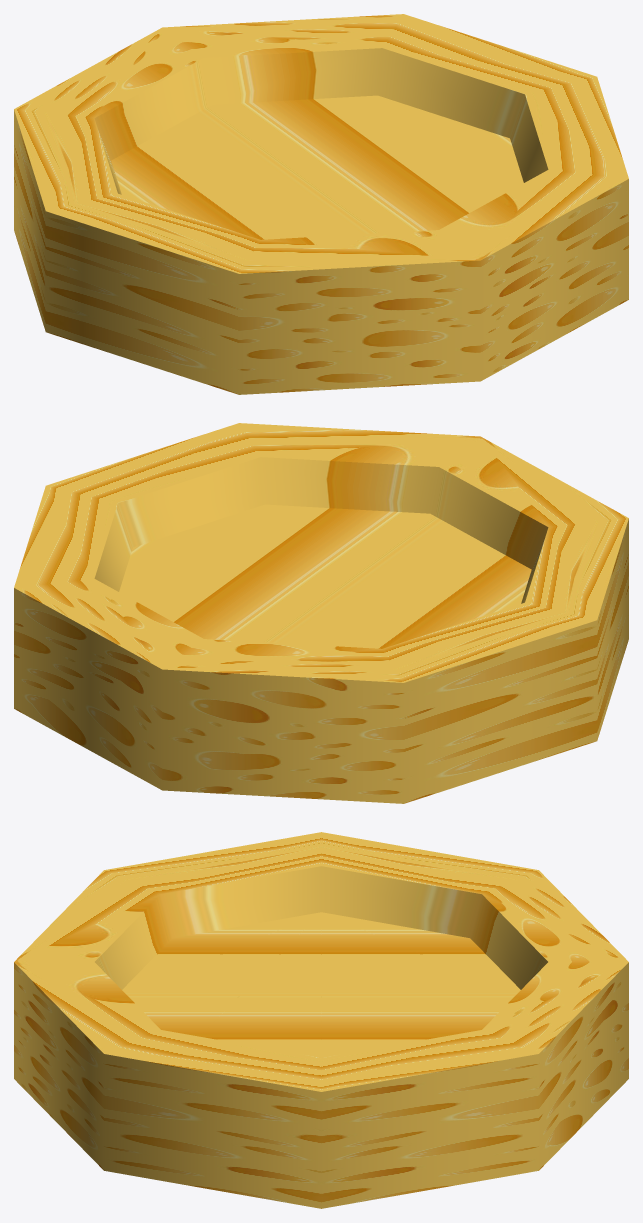
The model's file is Money.fbx.
3 views of the same model, one above another, from view 1: azimuth 30°, elevation 25°; view 2: azimuth 150°, elevation 25°; view 3: azimuth 270°, elevation 25° (orthographic). The views are drawn at different scales.
Parts seen in each view (by area): view 1: Coin; view 2: Coin; view 3: Coin.
Boxes of the visible parts, <box> form: Coin: <box>14,14,628,394</box>; Coin: <box>14,423,628,803</box>; Coin: <box>14,832,628,1208</box>.
Size of the model in its own units: 36.08 by 7.57 by 36.08.
